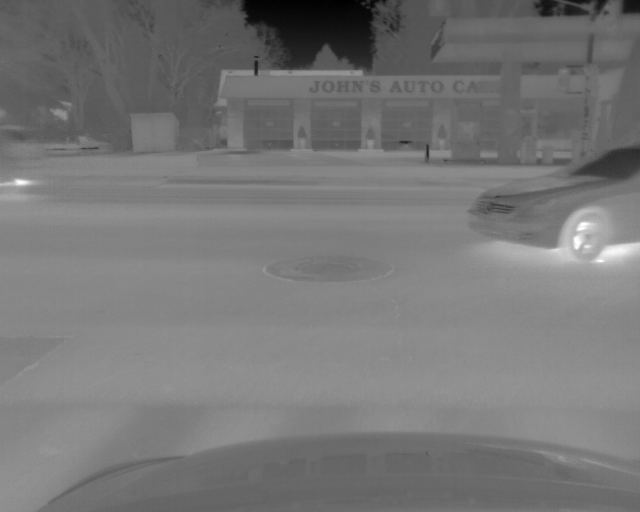car: (466, 141, 640, 266)
